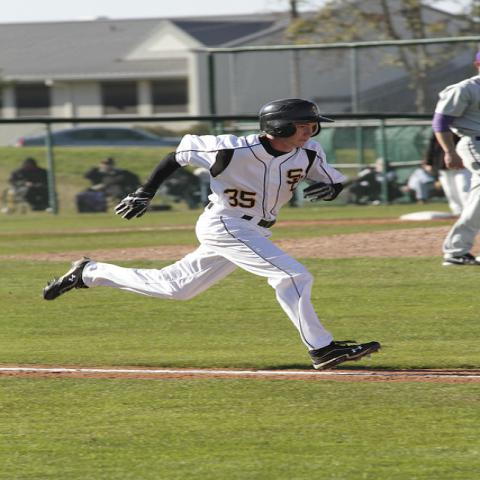car: (22, 129, 187, 147)
